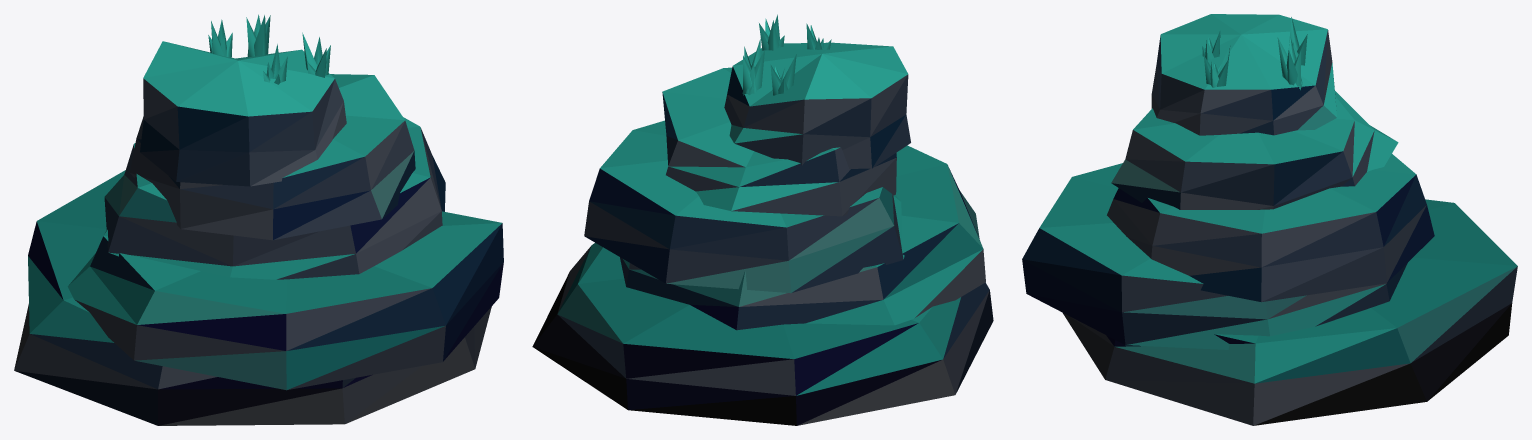
File: batu_slate_basalt_636409.glb
3 renders of one model, left to right at view 1: azimuth 30°, elevation 25°; view 2: azimuth 150°, elevation 25°; view 3: azimuth 270°, elevation 25°, orthographic. The views are drawn at different scales.
Parts seen in each view (by area): view 1: Batu_Pipih_Bertumpuk; view 2: Batu_Pipih_Bertumpuk; view 3: Batu_Pipih_Bertumpuk.
Boxes of the visible parts, left/top/right/bottom form: Batu_Pipih_Bertumpuk: left=14, top=14, right=503, bottom=425; Batu_Pipih_Bertumpuk: left=532, top=14, right=993, bottom=425; Batu_Pipih_Bertumpuk: left=1022, top=14, right=1517, bottom=425.
Size of the model in its own units: 5.08 by 3.41 by 5.26.
